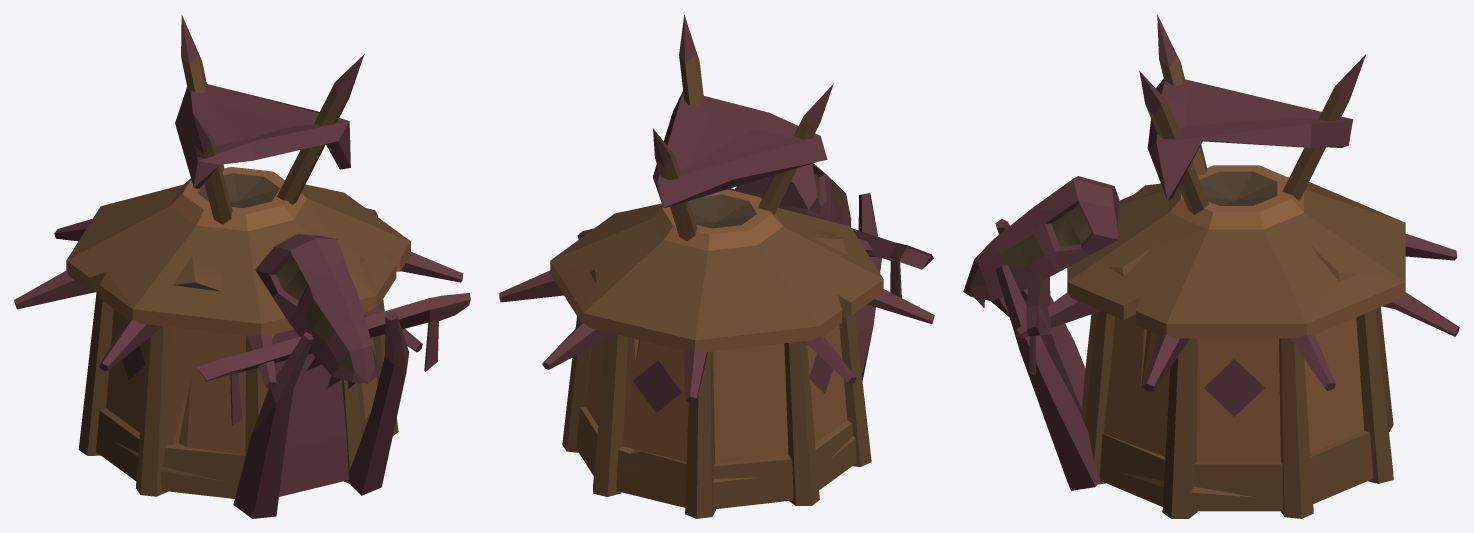
File: SM_Hut_Tribal_Tier3.fbx
3 renders of one model, left to right at view 1: azimuth 30°, elevation 25°; view 2: azimuth 150°, elevation 25°; view 3: azimuth 270°, elevation 25°, orthographic. The views are drawn at different scales.
Visible parts, largest first — view 1: SM_Hut_Tribal_Tier3; view 2: SM_Hut_Tribal_Tier3; view 3: SM_Hut_Tribal_Tier3.
Part boxes in pixels (x1=…): SM_Hut_Tribal_Tier3: x1=14, y1=14, x2=470, y2=518; SM_Hut_Tribal_Tier3: x1=499, y1=15, x2=934, y2=518; SM_Hut_Tribal_Tier3: x1=963, y1=15, x2=1459, y2=518.
Size of the model in its own units: 7.65 by 8.13 by 8.51.
